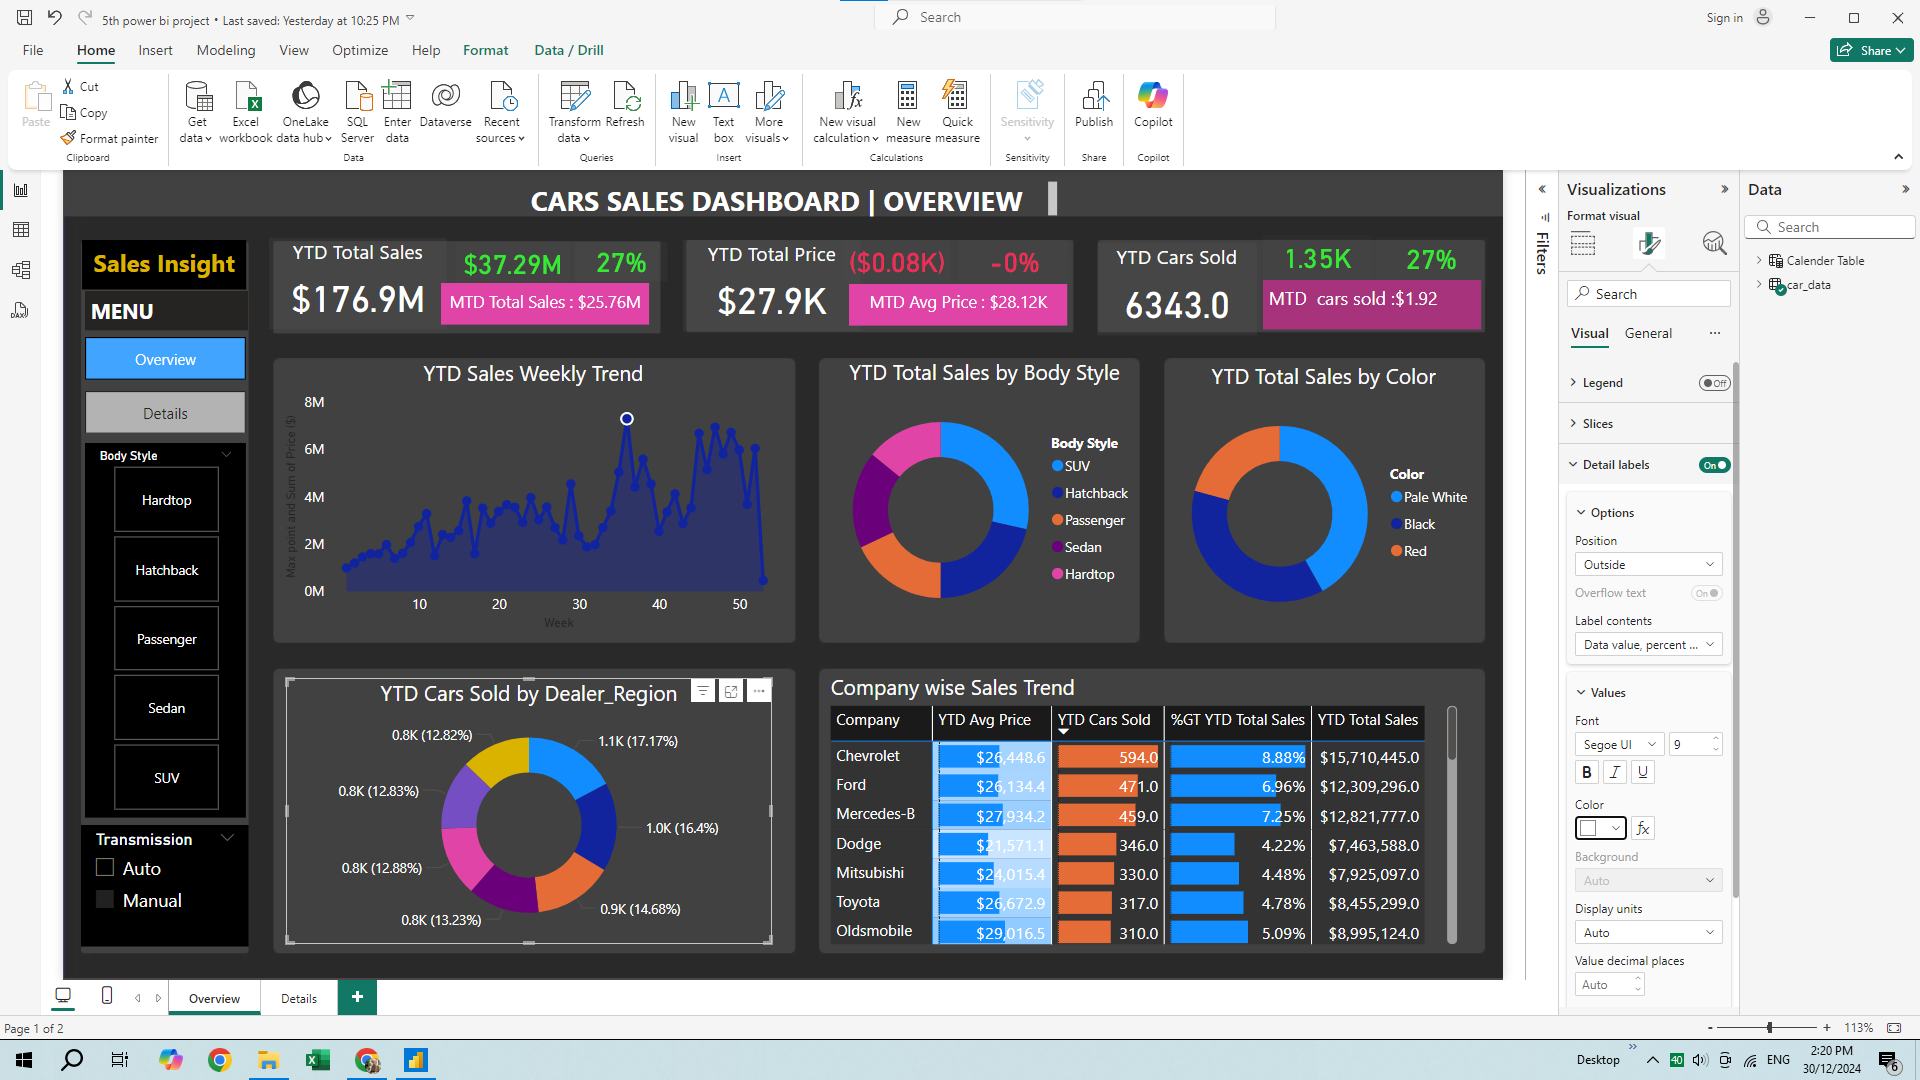

What the dashboard file says about the page in this screenshot:
{"tool":"powerbi","page":{"name":"Overview","canvas":[1280,720],"ordinal":0},"visuals":[{"type":"card","title":"YTD Total  Sales","fields":{"Values":["car_data.YTD Total Sales"]},"box":[183.1,60.5,157.9,80.6],"z":0},{"type":"card","fields":{"Values":["car_data.Sales Diffrence"]},"box":[349.4,63.8,100.8,38.6],"z":1000},{"type":"card","fields":{"Values":["car_data.YOY Sales Growth"]},"box":[455.2,63.8,82.3,35.3],"z":2000},{"type":"card","fields":{"Values":["car_data.MTD KPI"]},"box":[336,100.8,184.8,37],"z":3000},{"type":"card","title":"YTD Total  Price","fields":{"Values":["car_data.YTD Avg Price"]},"box":[551,62.2,157.9,80.6],"z":4000},{"type":"card","fields":{"Values":["car_data.Avg Price Diff"]},"box":[692.1,62.2,97.4,38.6],"z":5000},{"type":"card","fields":{"Values":["car_data.YOY Avg Price Growth"]},"box":[796.2,62.2,97.4,38.6],"z":6000},{"type":"card","fields":{"Values":["car_data.MTD Avg Price KPI"]},"box":[698.7,101.6,194.4,36.8],"z":7000},{"type":"card","title":"YTD Cars Sold","fields":{"Values":["car_data.YTD Cars Sold"]},"box":[919.3,64.8,141.8,82.3],"z":8000},{"type":"card","fields":{"Values":["car_data.Cars sold Diff"]},"box":[1067,58.1,96.8,40.5],"z":9000},{"type":"card","fields":{"Values":["car_data.YOY Sales Growth"]},"box":[1167.3,59.9,98.6,38.7],"z":10000},{"type":"areaChart","title":"YTD Sales Weekly Trend","fields":{"Category":["Calender Table.Week"],"Y":["car_data.Max point","Sum(car_data.Price ($))"]},"box":[191.9,167.3,452.5,246.5],"z":11000},{"type":"donutChart","fields":{"Category":["car_data.Body Style"],"Y":["car_data.YTD Total Sales"]},"box":[677.6,166.3,283.7,246.9],"z":12000},{"type":"donutChart","fields":{"Y":["car_data.YTD Total Sales"],"Category":["car_data.Color"]},"box":[978.8,169.8,283.7,246.9],"z":13000},{"type":"donutChart","fields":{"Category":["car_data.Dealer_Region"],"Y":["car_data.YTD Cars Sold"]},"box":[198.2,451.6,432,236.4],"z":14000},{"type":"pivotTable","title":"Company wise Sales Trend","fields":{"Rows":["car_data.Company"],"Values":["car_data.YTD Avg Price","car_data.YTD Cars Sold","car_data.YTD Total Sales","car_data.YTD Total Sales1"]},"box":[677.6,446.5,567.3,246.9],"z":15000},{"type":"textbox","box":[411,5.7,477.6,41.1],"z":16000},{"type":"slicer","fields":{"Values":["car_data.Body Style"]},"box":[19.8,242.4,143.1,333.1],"z":17000},{"type":"slicer","fields":{"Values":["car_data.Transmission"]},"box":[15.6,582.5,148.8,107.7],"z":18000},{"type":"textbox","box":[17,62.4,146,43.9],"z":19000},{"type":"textbox","box":[1066.4,98.1,194.4,43.8],"z":20000},{"type":"textbox","box":[19.8,107.7,144.6,35.4],"z":21000},{"type":"pageNavigator","box":[19.8,148.8,143.1,87.9],"z":22000}]}

Visuals, with their boxes on the page's 1280x720 design canvas (x1, y1, x2, y2). These are canvas units, not pixel positions in the 1920x1080 screenshot, which may show the page scaled, cropped or inside an application window:
"YTD Total  Sales" card: detection(183, 60, 341, 141)
card - car_data.Sales Diffrence: detection(349, 64, 450, 102)
card - car_data.YOY Sales Growth: detection(455, 64, 538, 99)
card - car_data.MTD KPI: detection(336, 101, 521, 138)
"YTD Total  Price" card: detection(551, 62, 709, 143)
card - car_data.Avg Price Diff: detection(692, 62, 790, 101)
card - car_data.YOY Avg Price Growth: detection(796, 62, 894, 101)
card - car_data.MTD Avg Price KPI: detection(699, 102, 893, 138)
"YTD Cars Sold" card: detection(919, 65, 1061, 147)
card - car_data.Cars sold Diff: detection(1067, 58, 1164, 99)
card - car_data.YOY Sales Growth: detection(1167, 60, 1266, 99)
"YTD Sales Weekly Trend" areaChart: detection(192, 167, 644, 414)
donutChart - car_data.Body Style x car_data.YTD Total Sales: detection(678, 166, 961, 413)
donutChart - car_data.YTD Total Sales x car_data.Color: detection(979, 170, 1262, 417)
donutChart - car_data.Dealer_Region x car_data.YTD Cars Sold: detection(198, 452, 630, 688)
"Company wise Sales Trend" pivotTable: detection(678, 446, 1245, 693)
textbox: detection(411, 6, 889, 47)
slicer - car_data.Body Style: detection(20, 242, 163, 576)
slicer - car_data.Transmission: detection(16, 582, 164, 690)
textbox: detection(17, 62, 163, 106)
textbox: detection(1066, 98, 1261, 142)
textbox: detection(20, 108, 164, 143)
pageNavigator: detection(20, 149, 163, 237)
